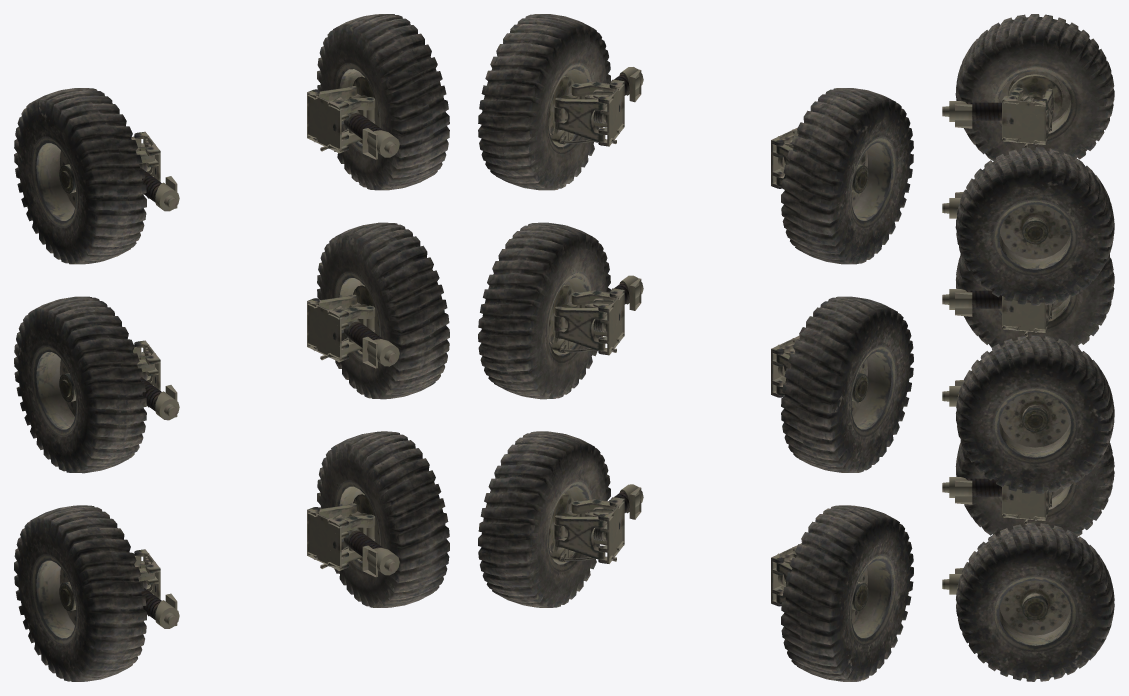
File: Chassis.glb
The picture shows the model from 3 angles, left to right: view 1: azimuth 30°, elevation 25°; view 2: azimuth 150°, elevation 25°; view 3: azimuth 270°, elevation 25°; orthographic projection. The views are drawn at different scales.
Visible parts, largest first — view 1: set_2_group_0, set_1_group_0, set_0_group_0, set_2_group_1, set_3_group_0, set_1_group_1; view 2: set_2_group_0, set_1_group_0, set_0_group_0, set_2_group_1, set_3_group_0, set_1_group_1; view 3: set_1_group_0, set_2_group_0, set_1_group_1, set_3_group_0, set_2_group_1, set_0_group_0.
Boxes of the visible parts, box(x1,y1,x2,y2) form: set_2_group_0: box(14, 88, 146, 681); set_1_group_0: box(317, 14, 449, 607); set_0_group_0: box(307, 76, 399, 577); set_2_group_1: box(31, 136, 78, 645); set_3_group_0: box(131, 131, 179, 628); set_1_group_1: box(334, 63, 380, 570); set_2_group_0: box(781, 88, 913, 681); set_1_group_0: box(478, 14, 610, 607); set_0_group_0: box(548, 67, 643, 563); set_2_group_1: box(849, 136, 896, 645); set_3_group_0: box(771, 127, 801, 606); set_1_group_1: box(547, 62, 593, 571); set_1_group_0: box(955, 147, 1114, 681); set_2_group_0: box(955, 14, 1114, 536); set_1_group_1: box(993, 199, 1077, 652); set_3_group_0: box(942, 74, 1062, 524); set_2_group_1: box(993, 66, 1077, 517); set_0_group_0: box(942, 192, 964, 594).
Size of the model in its own units: 2.92 by 4.51 by 1.36.
Materials: 6 (6 with a texture image).
